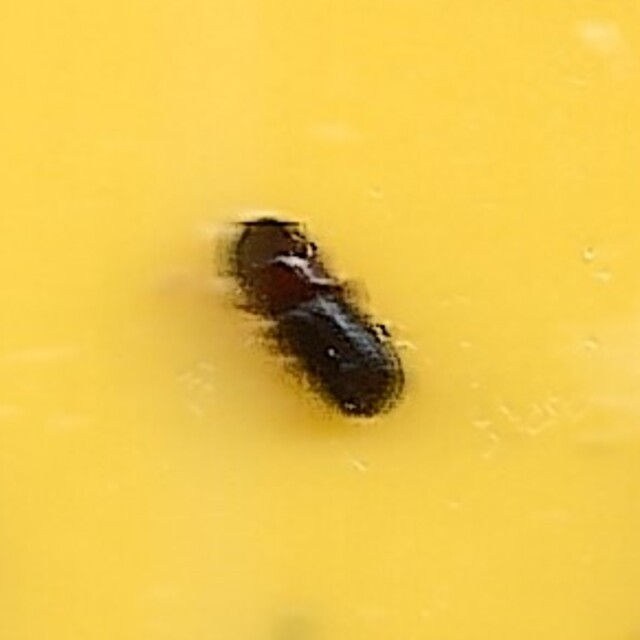Coleoptera: (220, 202, 420, 438)
